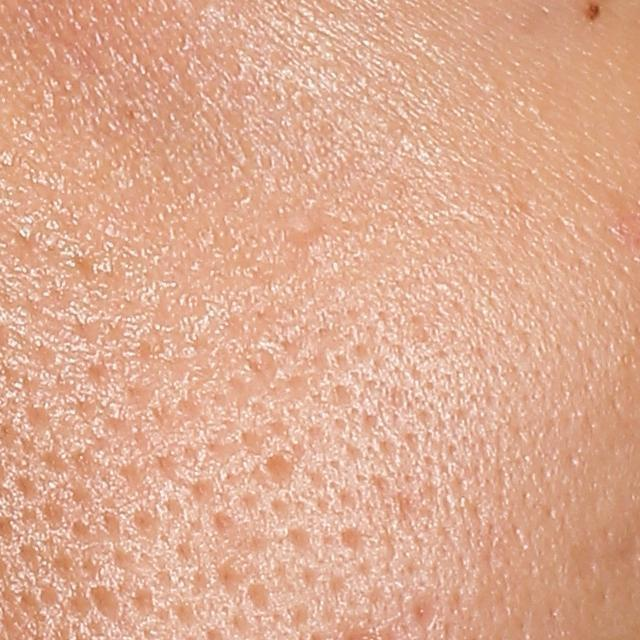atrophic_scar: (229, 345, 278, 406), (252, 452, 291, 491), (90, 585, 120, 622)
